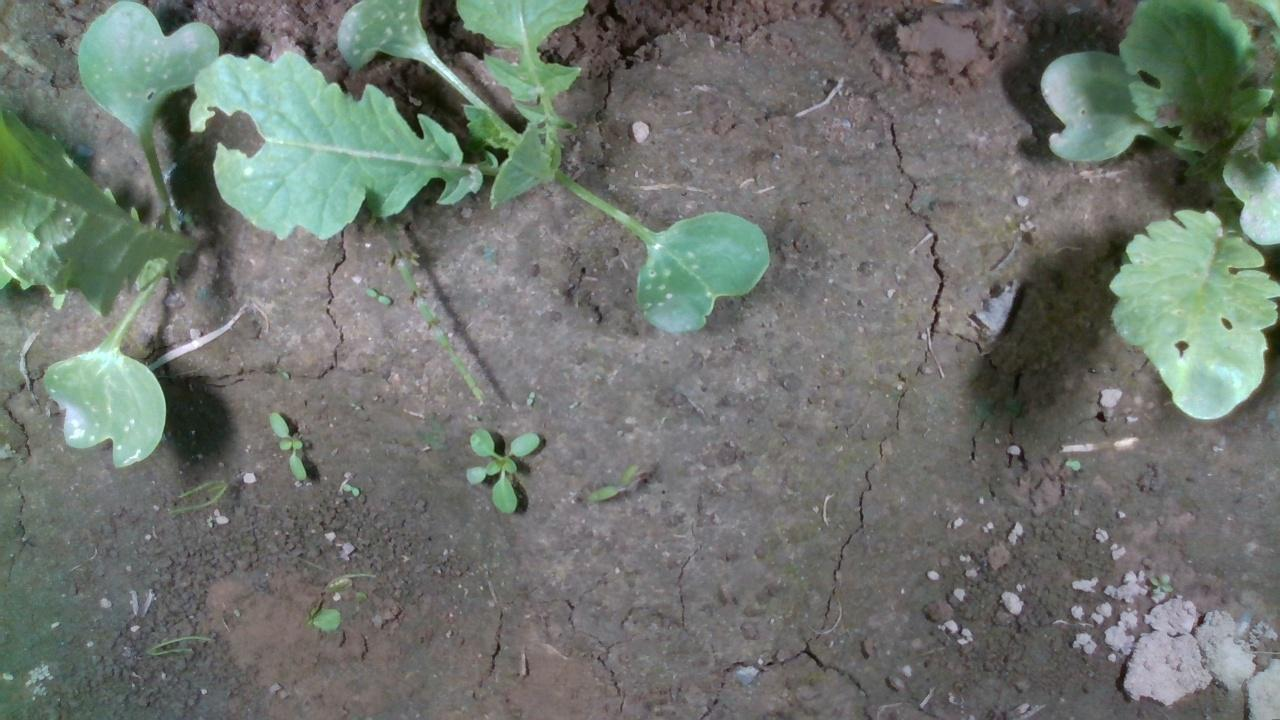weed: (459, 425, 545, 514), (265, 410, 308, 483), (583, 463, 638, 502)
